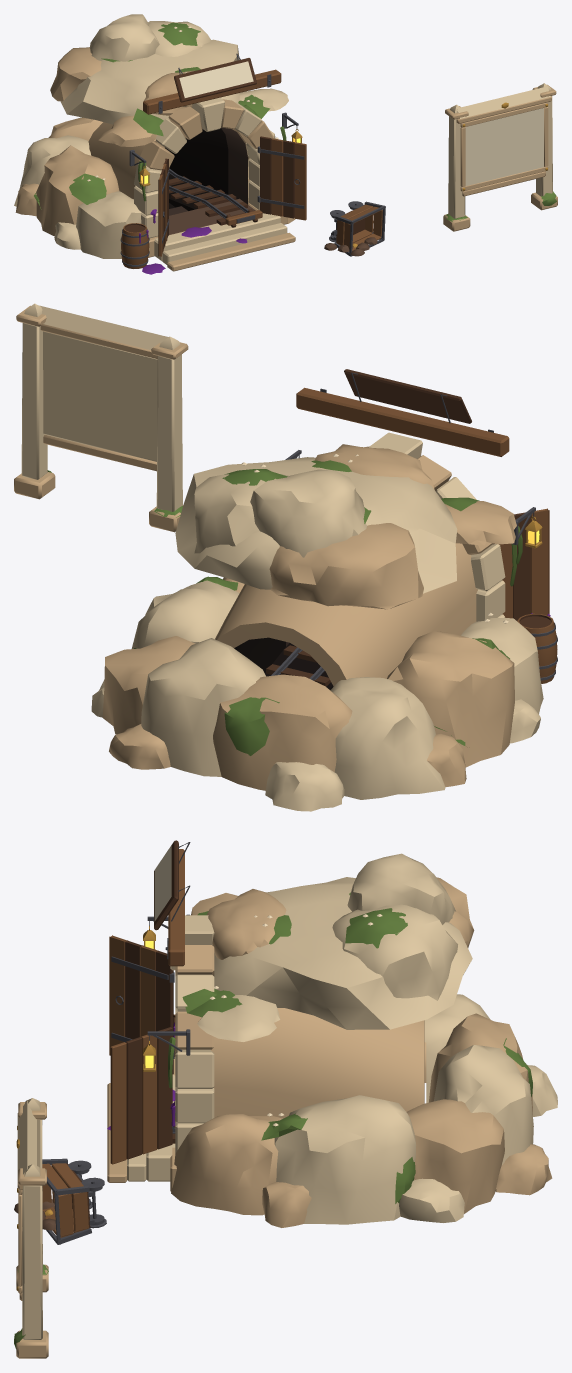
Rendered from plaza_entrance_v2.glb.
3 renders of one model, top to bottom at view 1: azimuth 30°, elevation 25°; view 2: azimuth 150°, elevation 25°; view 3: azimuth 270°, elevation 25°, orthographic. The views are drawn at different scales.
Visible parts, largest first — view 1: plaza_cave_entrance, plaza_records_board, board_face, plaza_cave_entrance_sign; view 2: plaza_cave_entrance, plaza_records_board; view 3: plaza_cave_entrance, plaza_records_board, plaza_cave_entrance_sign.
Part boxes in pixels (bbox=[...]): plaza_cave_entrance: bbox=[14, 14, 385, 274]; plaza_records_board: bbox=[443, 83, 557, 231]; board_face: bbox=[465, 108, 543, 185]; plaza_cave_entrance_sign: bbox=[179, 61, 253, 97]; plaza_cave_entrance: bbox=[91, 369, 557, 811]; plaza_records_board: bbox=[14, 303, 188, 532]; plaza_cave_entrance: bbox=[14, 840, 557, 1244]; plaza_records_board: bbox=[14, 1098, 48, 1358]; plaza_cave_entrance_sign: bbox=[154, 845, 171, 921].
Bounding box in the file's own units: 11.47 × 4.78 × 8.41.
